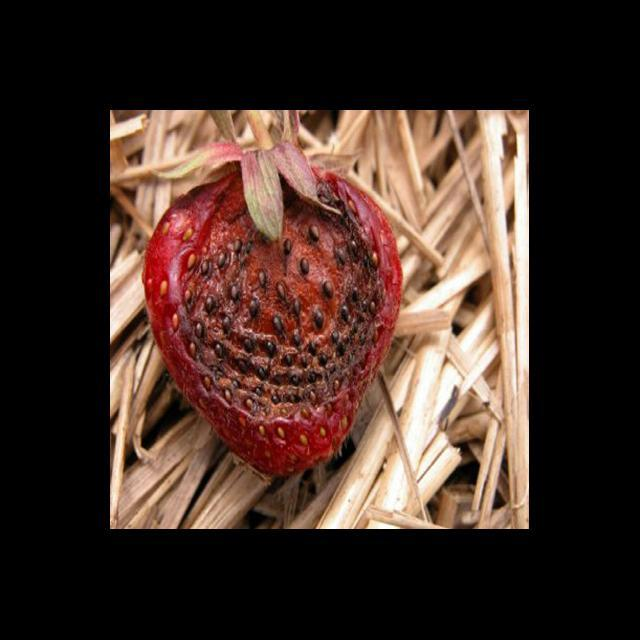Anthracnose Fruit Rot: (167, 169, 393, 421)
